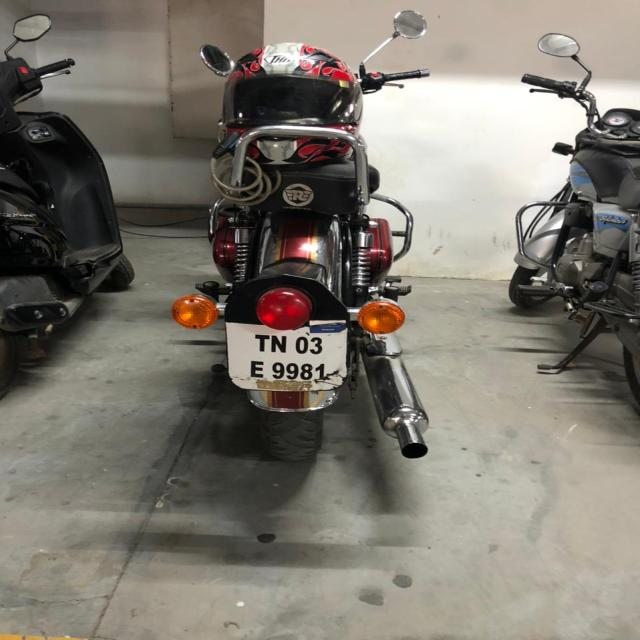number plate: (224, 319, 349, 391)
